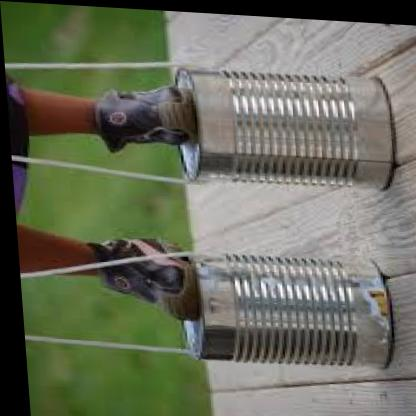Metal: (165, 239, 400, 394), (157, 62, 416, 200)
